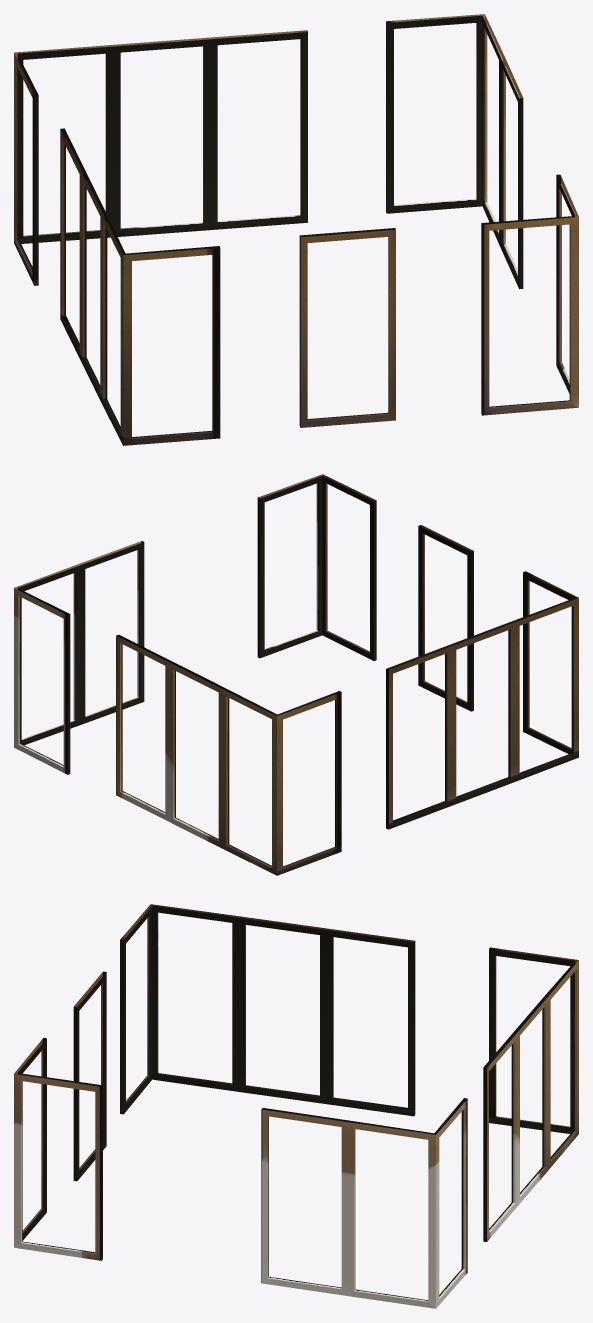
File: Building_00_Frame.fbx
3 renders of one model, top to bottom at view 1: azimuth 30°, elevation 25°; view 2: azimuth 150°, elevation 25°; view 3: azimuth 270°, elevation 25°, orthographic. The views are drawn at different scales.
Parts seen in each view (by area): view 1: Building_00_Frame; view 2: Building_00_Frame; view 3: Building_00_Frame.
Part boxes in pixels (x1,y1,x2,y2): Building_00_Frame: (14, 14, 578, 445); Building_00_Frame: (14, 474, 578, 875); Building_00_Frame: (14, 904, 578, 1308).
Bounding box in the file's own units: 8.33 × 2.93 × 8.62.
1 material, 1 textured.
